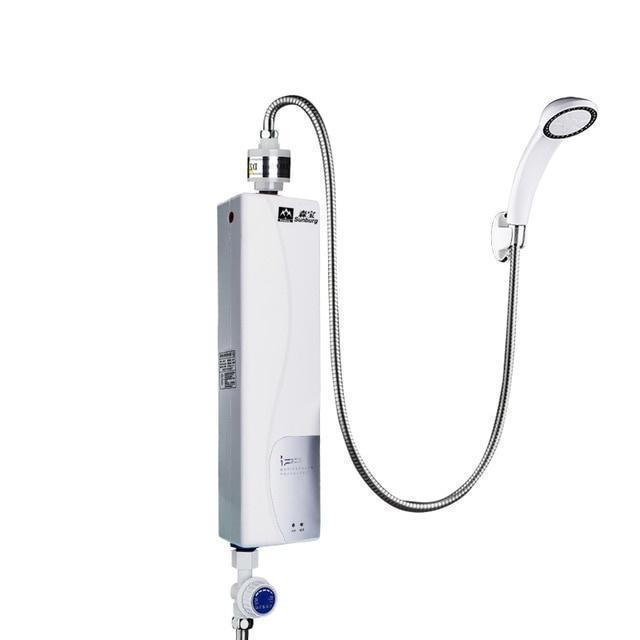Ducha: (192, 83, 603, 639)
